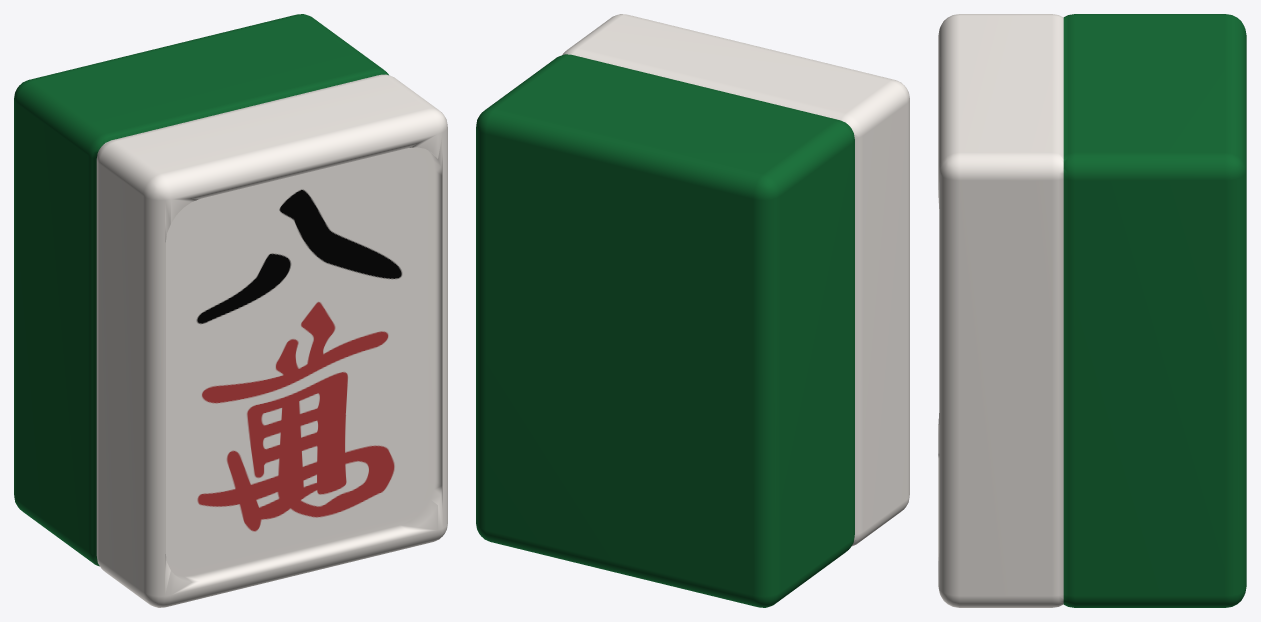
The model's file is man8-v6w53ken.glb.
3 views of the same model, side by side, from view 1: azimuth 30°, elevation 25°; view 2: azimuth 150°, elevation 25°; view 3: azimuth 270°, elevation 25° (orthographic). The views are drawn at different scales.
Parts seen in each view (by area): view 1: TileBody, FacePanel; view 2: TileBody; view 3: TileBody.
Part boxes in pixels (bbox=[...]): TileBody: bbox=[14, 14, 447, 607]; FacePanel: bbox=[165, 148, 428, 569]; TileBody: bbox=[476, 14, 909, 607]; TileBody: bbox=[938, 14, 1246, 607].
Size of the model in its own units: 19 by 26 by 16.
Materials: 3 (1 with a texture image).
